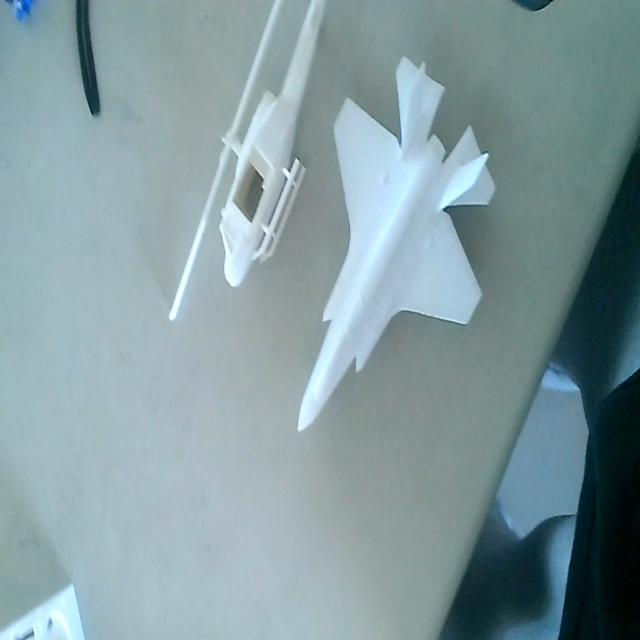Helicopter: (169, 0, 321, 327)
Jet: (298, 50, 499, 438)
